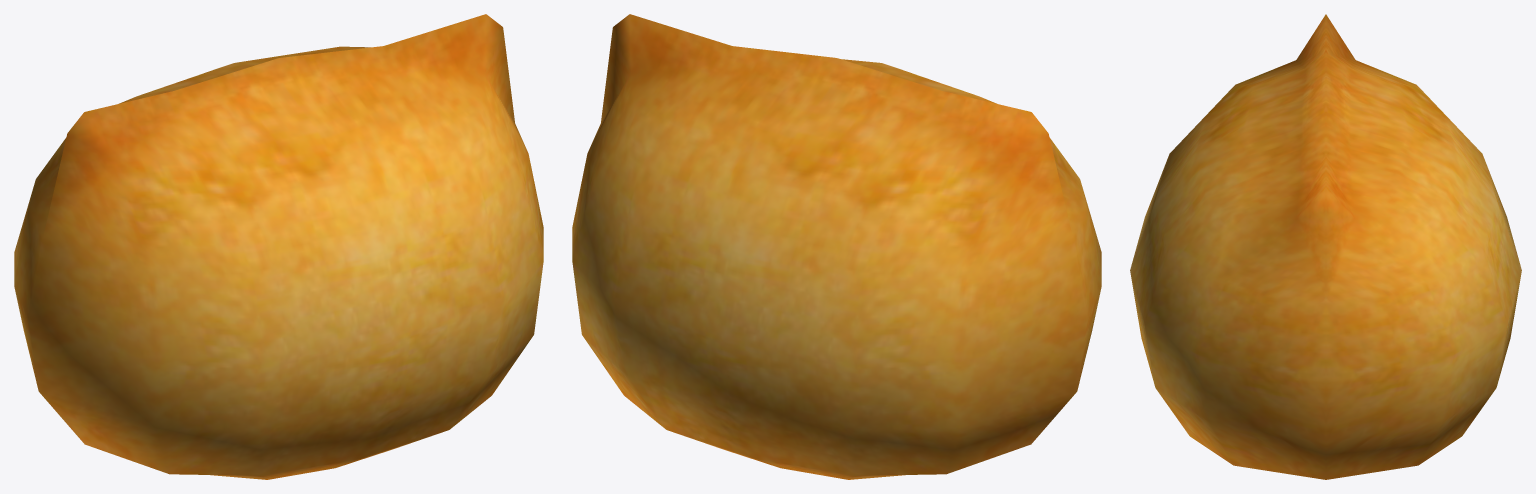
File: inari.fbx
3 renders of one model, left to right at view 1: azimuth 30°, elevation 25°; view 2: azimuth 150°, elevation 25°; view 3: azimuth 270°, elevation 25°, orthographic. The views are drawn at different scales.
Parts seen in each view (by area): view 1: polySurface24; view 2: polySurface24; view 3: polySurface24.
Boxes of the visible parts, x1,y1,x2,y2 form: polySurface24: (14, 14, 543, 479); polySurface24: (572, 14, 1101, 479); polySurface24: (1130, 14, 1521, 479).
Bounding box in the file's own units: 1.83 × 1.3 × 1.39.
